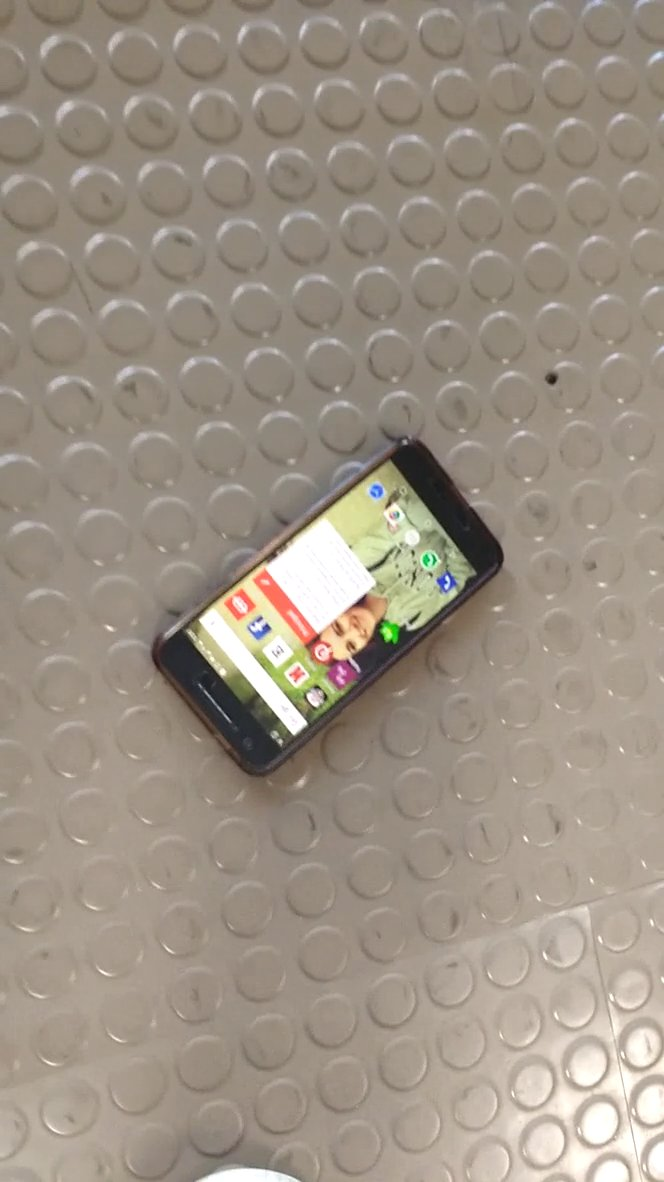phone: (141, 420, 520, 790)
